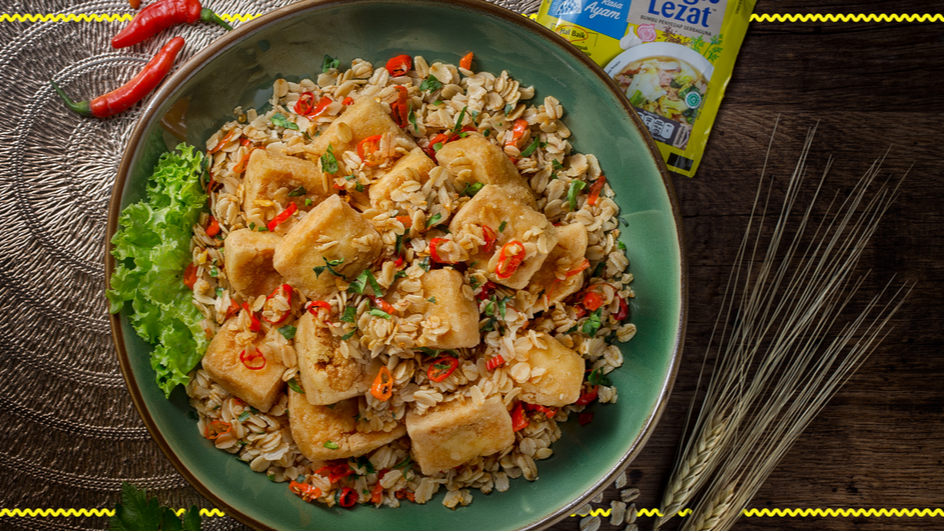Tahu: (263, 202, 366, 320), (407, 369, 511, 467), (470, 211, 572, 295), (231, 147, 307, 240), (296, 399, 400, 460), (211, 312, 287, 393), (410, 270, 479, 343)
